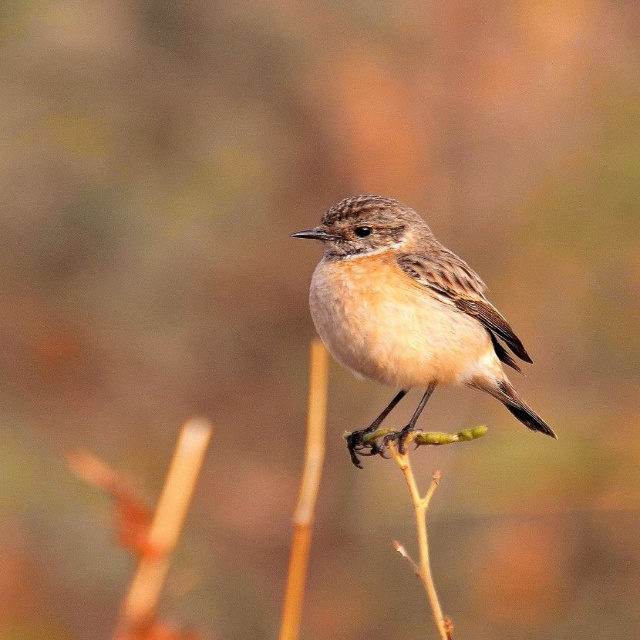Sparrow: (293, 195, 551, 470)
